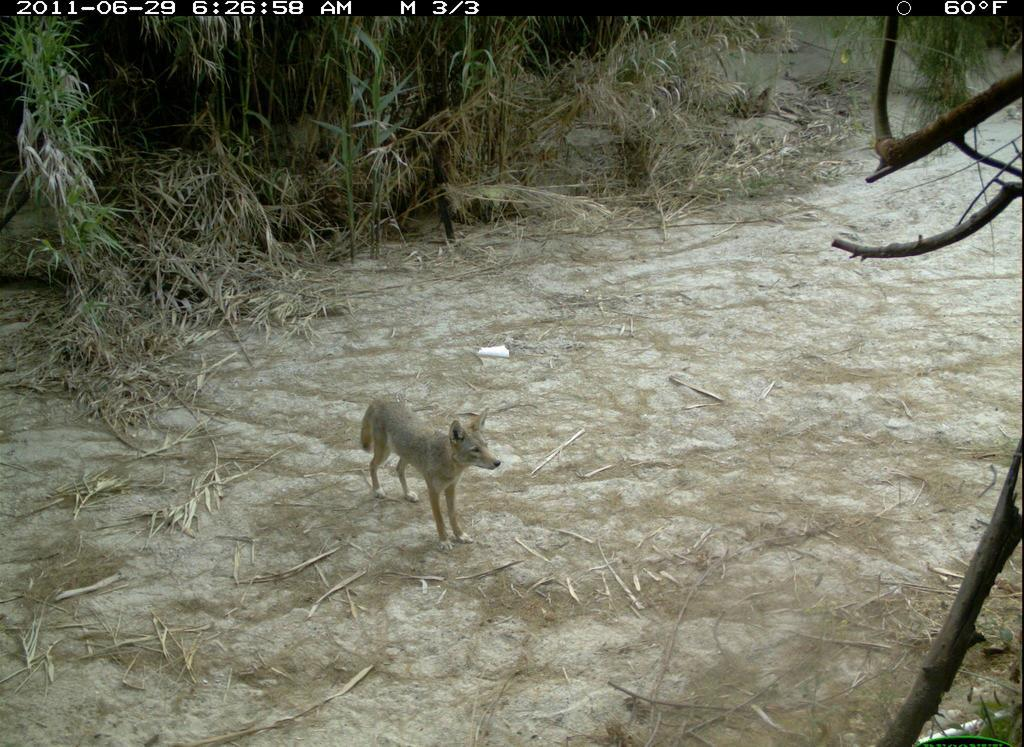coyote: (344, 387, 520, 557)
